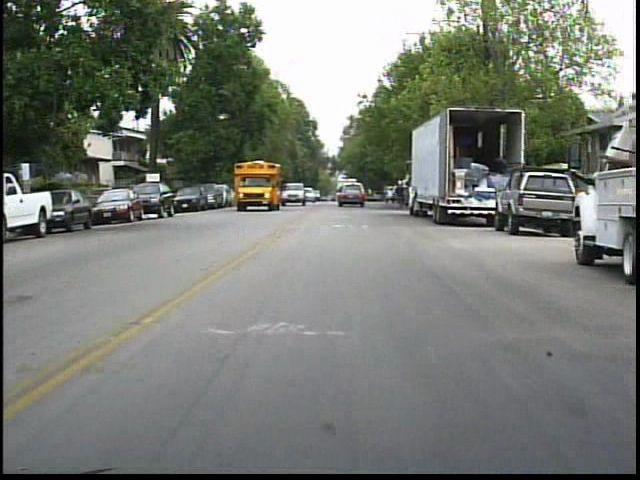person: (392, 177, 411, 216)
